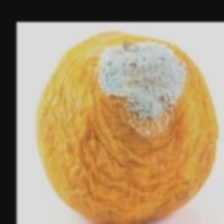orange: (24, 38, 180, 199)
